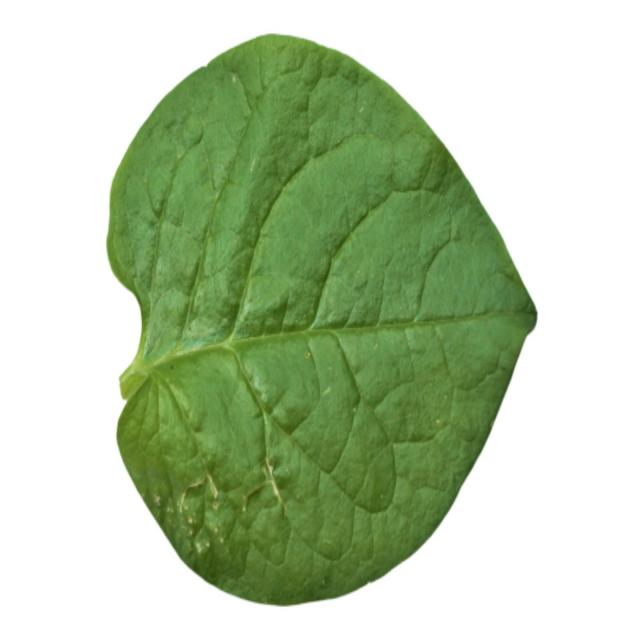Medicinal-Basale: (106, 31, 538, 606)
